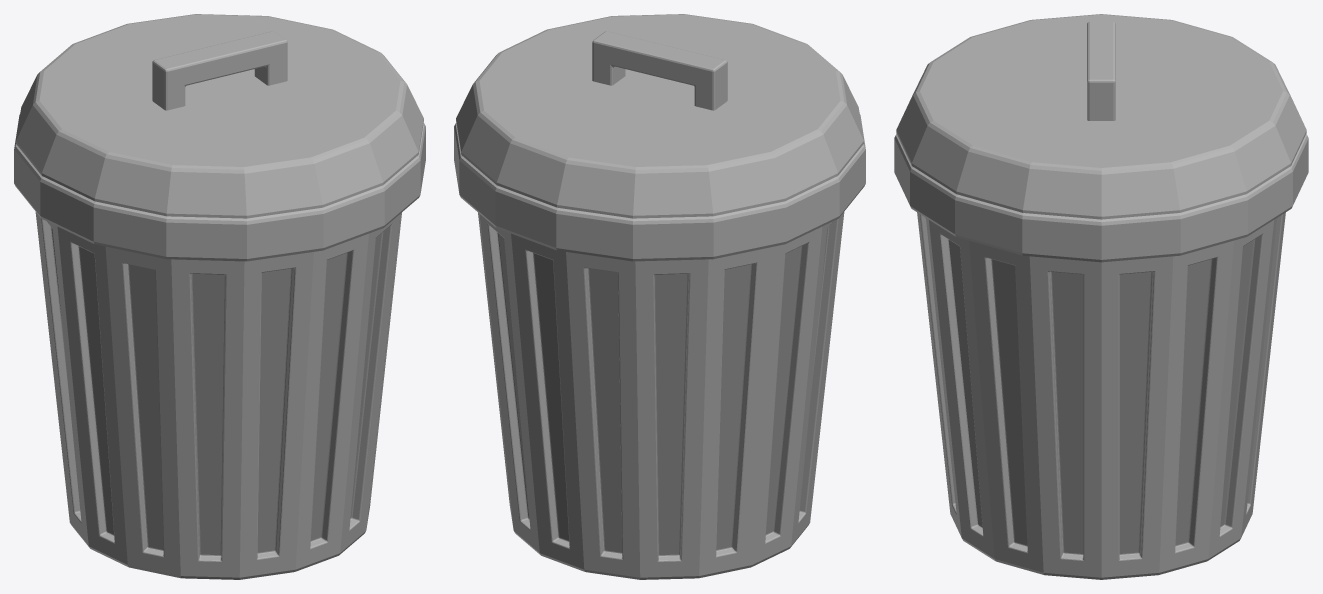
File: Bin.fbx
3 renders of one model, left to right at view 1: azimuth 30°, elevation 25°; view 2: azimuth 150°, elevation 25°; view 3: azimuth 270°, elevation 25°, orthographic.
Visible parts, largest first — view 1: Bin; view 2: Bin; view 3: Bin.
Part boxes in pixels (x1,y1,x2,y2): Bin: [14, 14, 425, 579]; Bin: [454, 14, 865, 579]; Bin: [894, 14, 1308, 579].
Bounding box in the file's own units: 88 × 110 × 88.
